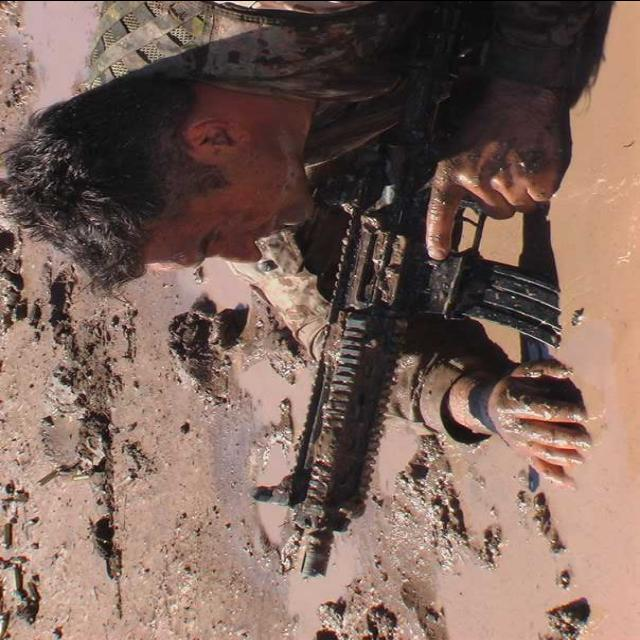heavyweapon: (211, 8, 593, 613)
